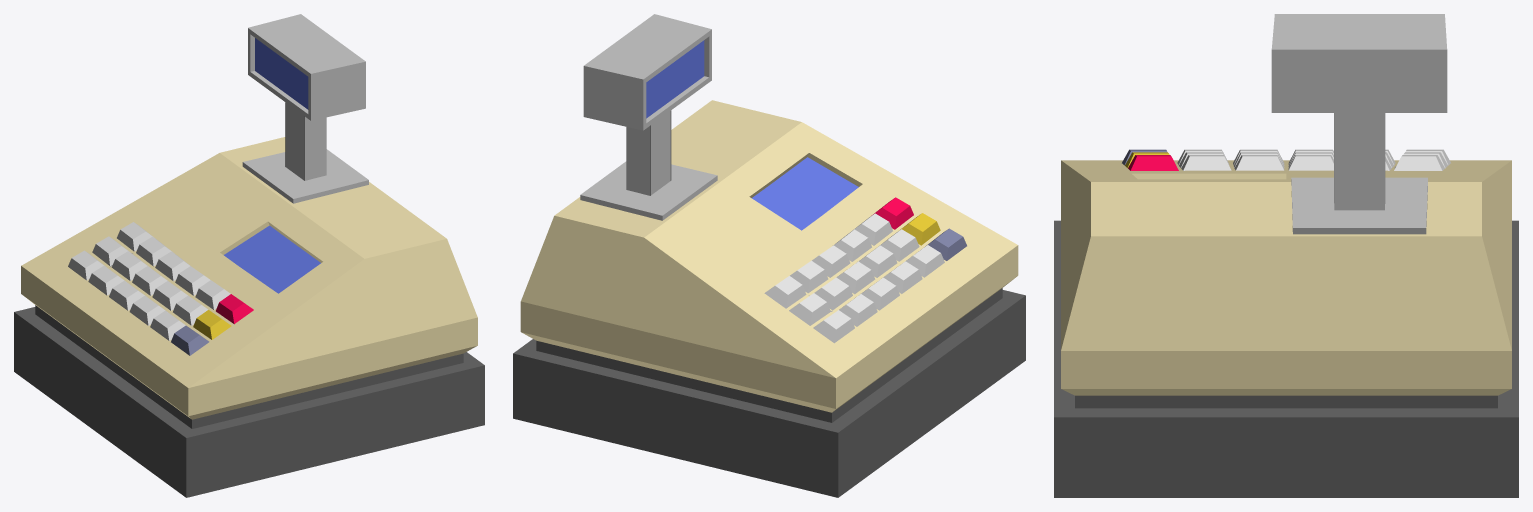
Rendered from cash_box.fbx.
3 renders of one model, left to right at view 1: azimuth 30°, elevation 25°; view 2: azimuth 150°, elevation 25°; view 3: azimuth 270°, elevation 25°, orthographic. The views are drawn at different scales.
Parts seen in each view (by area): view 1: cash_box; view 2: cash_box; view 3: cash_box.
Part boxes in pixels (box(x1,y1,x2,y2)): cash_box: box(14, 14, 484, 497); cash_box: box(513, 14, 1025, 497); cash_box: box(1054, 14, 1518, 497).
Bounding box in the file's own units: 6.65 × 6.68 × 6.65.
